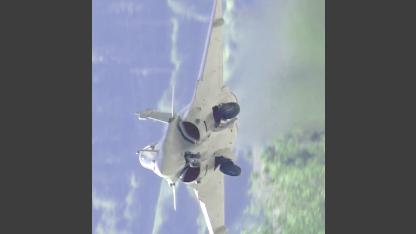RQ4: (132, 0, 240, 233)
